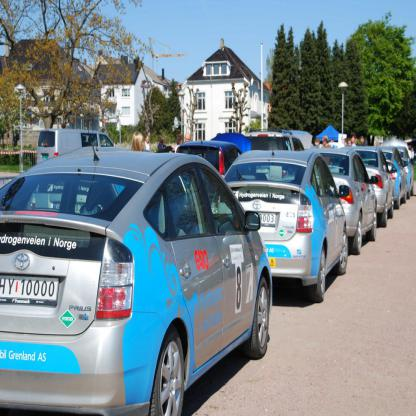Car: (26, 123, 416, 300)
